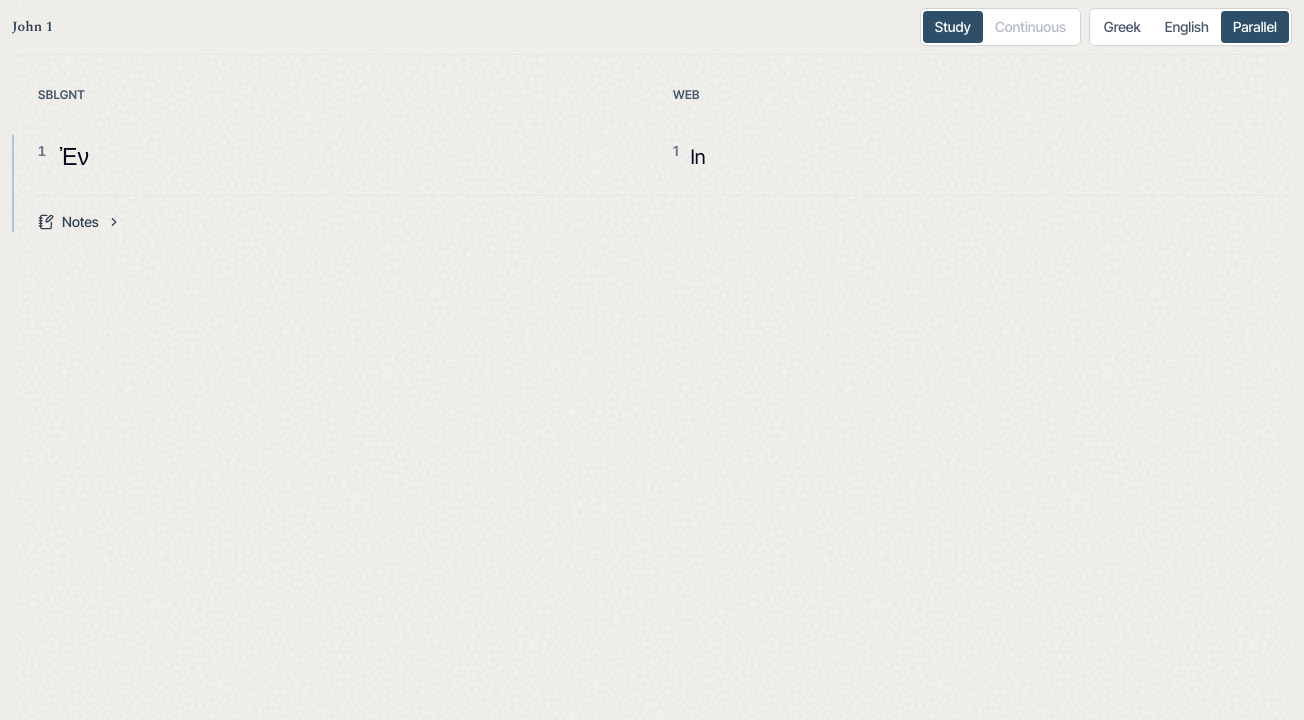
Test: single active popover › closes the Greek popover when an English word is opened
Click the button "Ἐν". click: (74, 157)
box: x1=56 y1=135 x2=93 y2=179
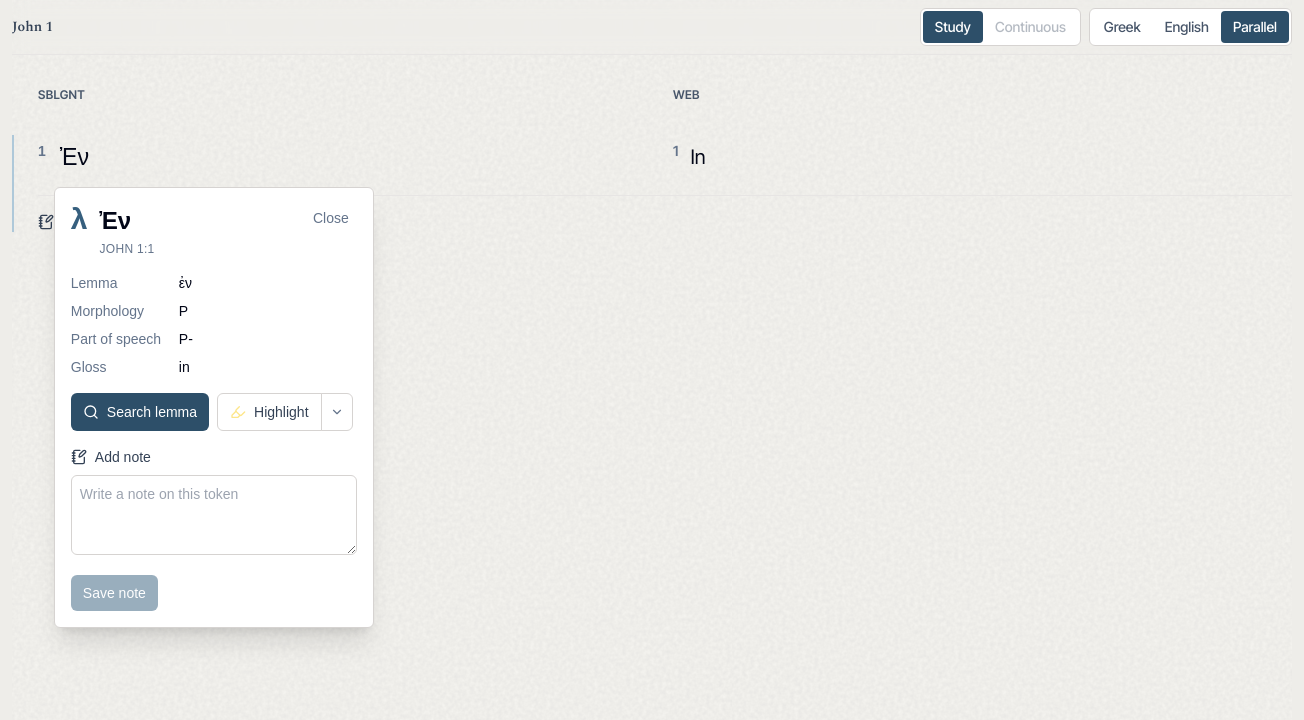
Check: the text "Morphology" is shown, box x1=71 y1=303 x2=144 y2=319
Click the button "In". click: (698, 157)
box: x1=686 y1=135 x2=710 y2=179
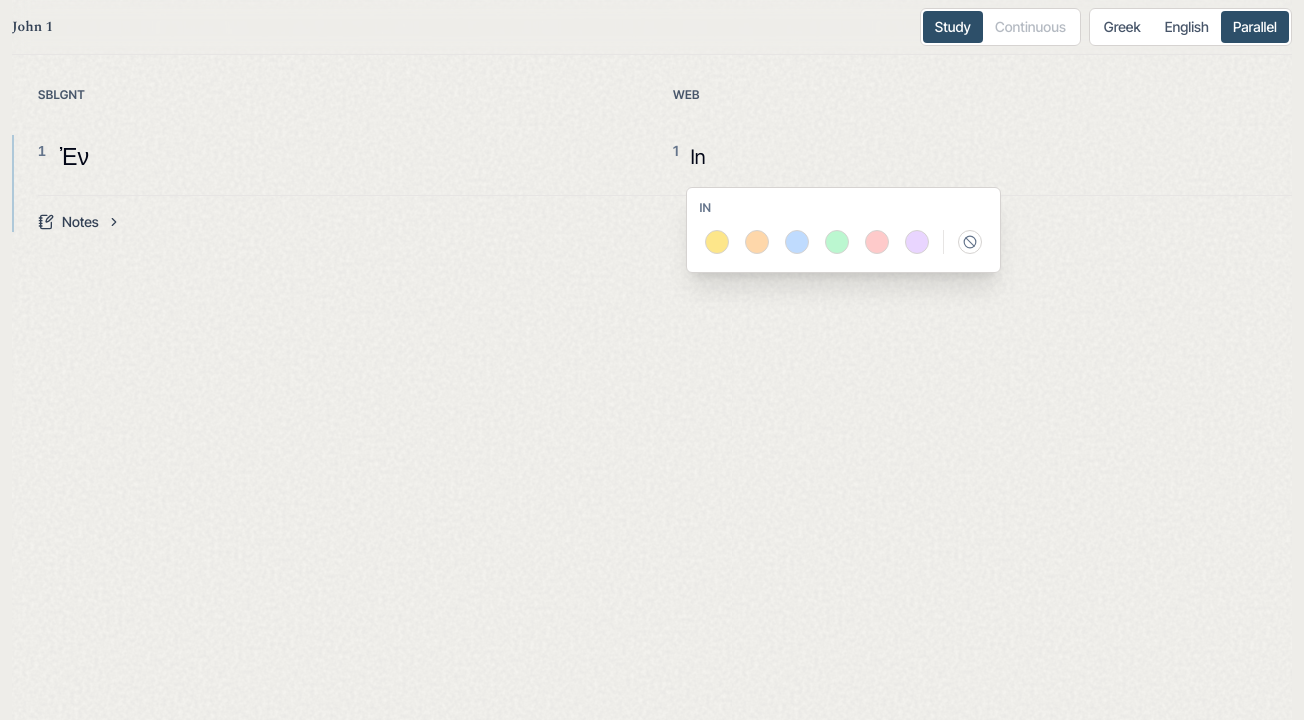
Check: the text "Morphology" is gone
